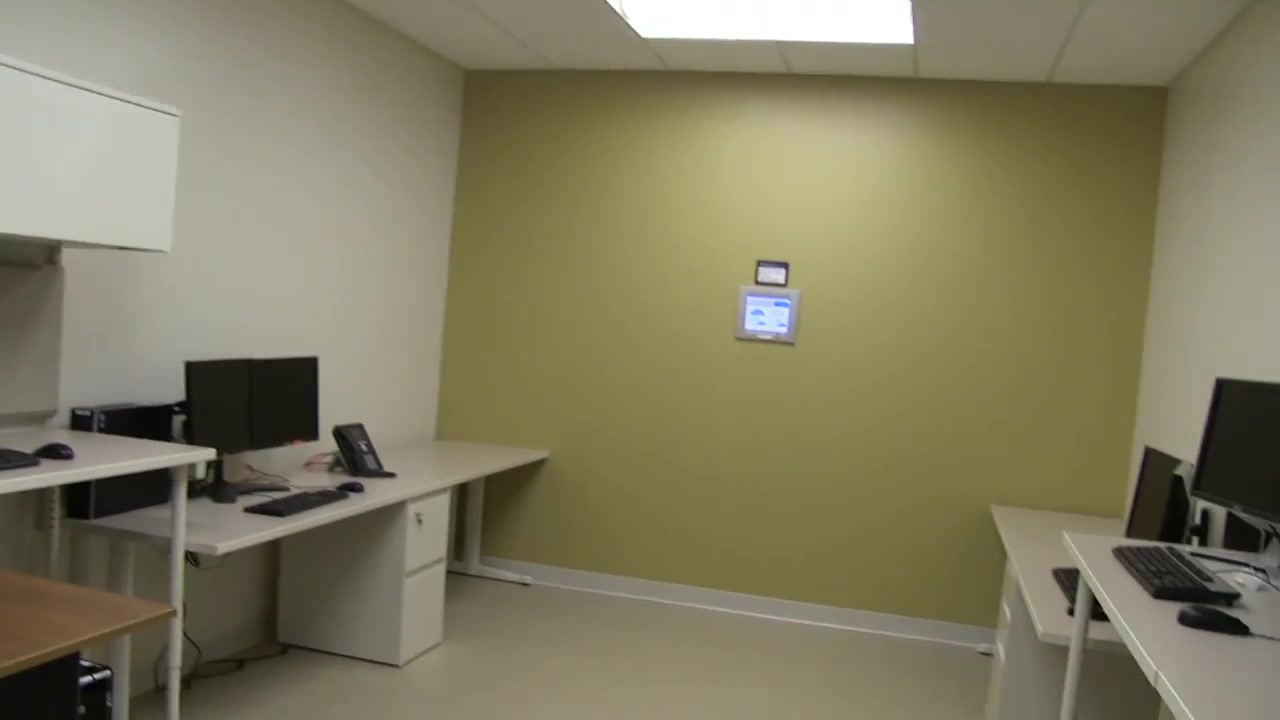computer: (1188, 376, 1280, 526), (185, 356, 319, 455), (1127, 444, 1195, 541), (1052, 566, 1107, 618)
countertop: (65, 442, 548, 553), (1060, 529, 1280, 720), (979, 500, 1134, 651), (1, 425, 216, 495)
drawer: (277, 484, 452, 667), (977, 555, 1157, 718)
keyboard: (1111, 544, 1242, 601), (244, 489, 349, 517)
mouse: (1177, 606, 1253, 637), (33, 442, 73, 460), (335, 481, 364, 494)
table: (61, 441, 548, 720)
telephone: (331, 422, 383, 476)
